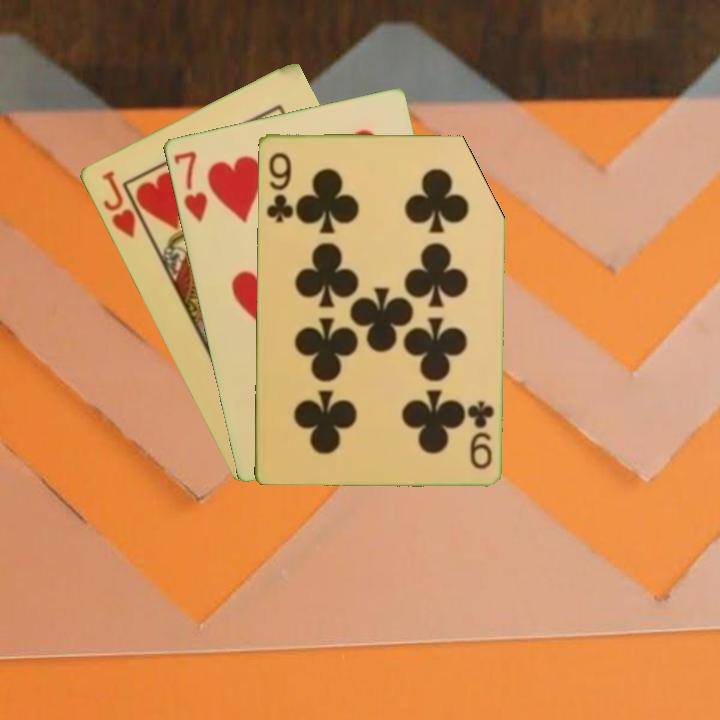7h: (169, 147, 210, 225)
9c: (262, 149, 295, 226), (464, 397, 497, 471)
Jh: (98, 166, 138, 241)
